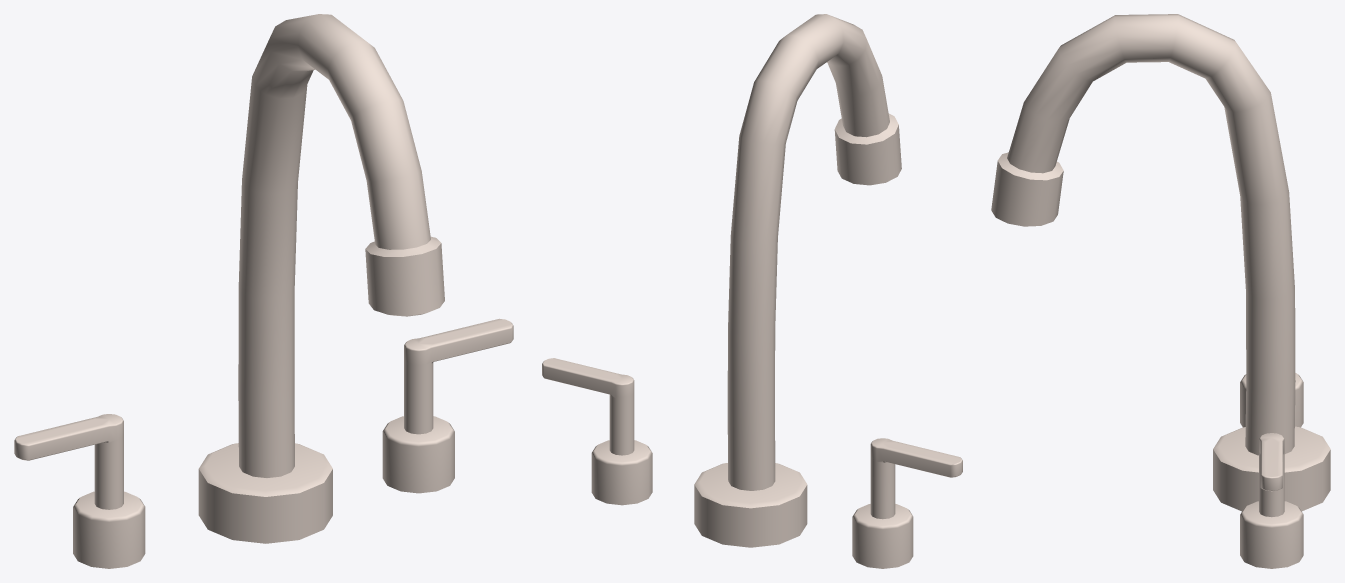
The model's file is Faucet_3.glb.
The picture shows the model from 3 angles, left to right: view 1: azimuth 30°, elevation 25°; view 2: azimuth 150°, elevation 25°; view 3: azimuth 270°, elevation 25°; orthographic projection. The views are drawn at different scales.
Visible parts, largest first — view 1: Faucet_3; view 2: Faucet_3; view 3: Faucet_3.
Part boxes in pixels (bbox=[...]): Faucet_3: bbox=[14, 14, 513, 568]; Faucet_3: bbox=[542, 14, 962, 568]; Faucet_3: bbox=[991, 14, 1330, 568].
Size of the model in its own units: 0.4077 by 0.4251 by 0.2761.
Materials: 1 (1 with a texture image).
